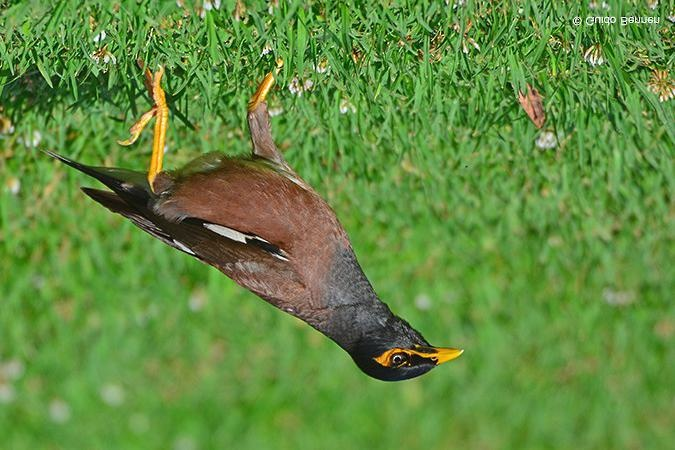myna: (114, 85, 467, 394)
